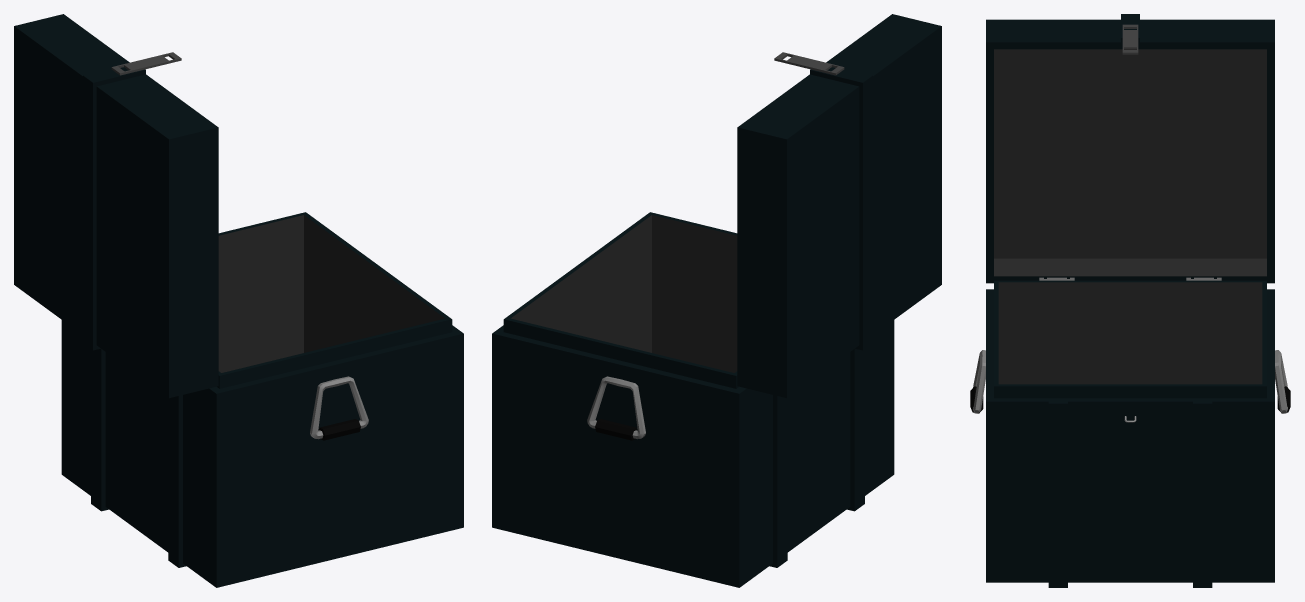
The model's file is StorageCrate_011.glb.
3 views of the same model, side by side, from view 1: azimuth 30°, elevation 25°; view 2: azimuth 150°, elevation 25°; view 3: azimuth 270°, elevation 25° (orthographic). The views are drawn at different scales.
Visible parts, largest first — view 1: Mesh_StorageCrate_011; view 2: Mesh_StorageCrate_011; view 3: Mesh_StorageCrate_011.
Part boxes in pixels (box(x1,y1,x2,y2)): Mesh_StorageCrate_011: box(14, 14, 463, 587); Mesh_StorageCrate_011: box(492, 14, 941, 587); Mesh_StorageCrate_011: box(970, 14, 1290, 587).
Size of the model in its own units: 0.6272 by 0.9086 by 0.6014.
1 material, 1 textured.
